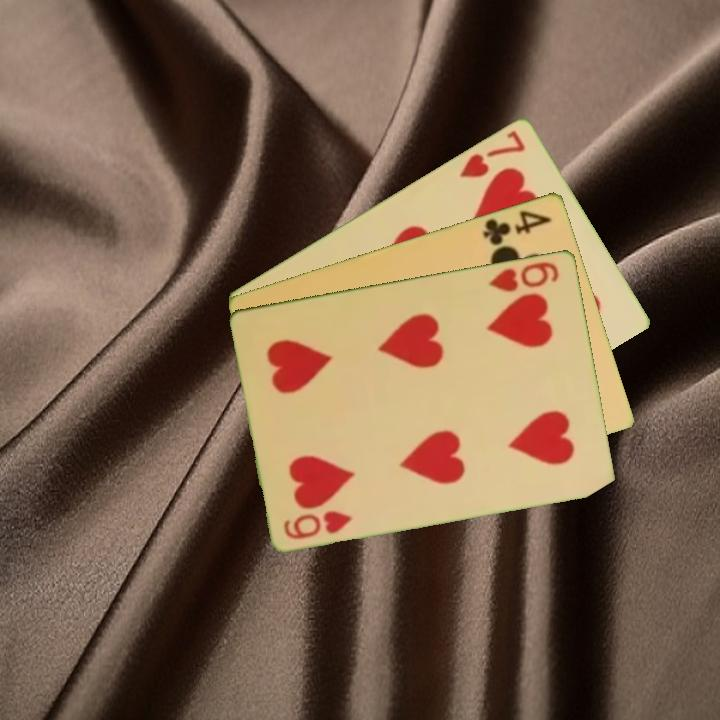4c: (479, 206, 555, 248)
6h: (485, 257, 563, 295), (280, 506, 356, 542)
7h: (455, 126, 529, 180)
